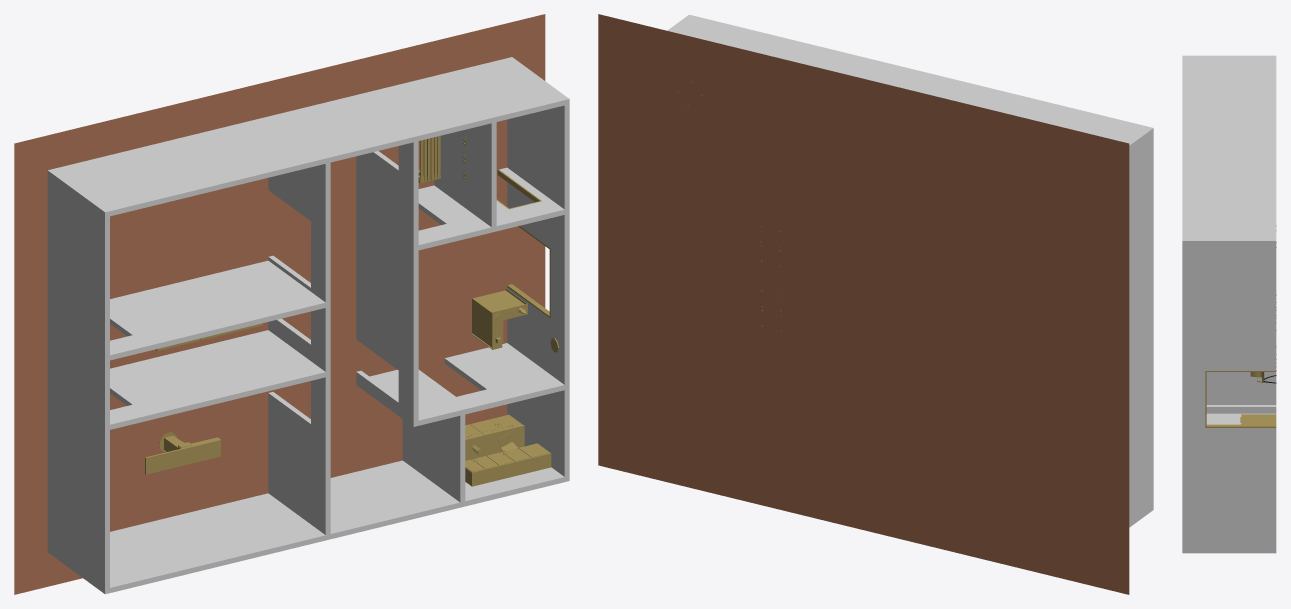
The model's file is room_static.gltf.
3 views of the same model, side by side, from view 1: azimuth 30°, elevation 25°; view 2: azimuth 150°, elevation 25°; view 3: azimuth 270°, elevation 25° (orthographic). The views are drawn at different scales.
Parts seen in each view (by area): view 1: StaticObjects.001; view 2: StaticObjects.001; view 3: StaticObjects.001.
Boxes of the visible parts, x1=… form: StaticObjects.001: x1=14, y1=14, x2=569, y2=594; StaticObjects.001: x1=598, y1=14, x2=1153, y2=594; StaticObjects.001: x1=1182, y1=55, x2=1276, y2=553.
Bounding box in the file's own units: 16 × 13 × 3.02.
